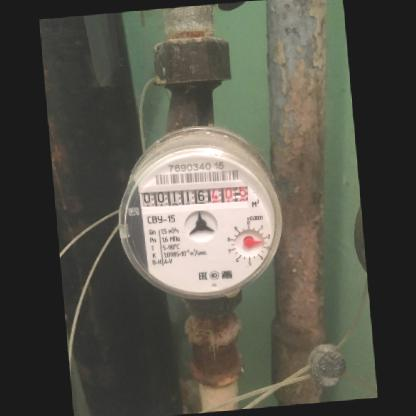digital_screen: (137, 183, 210, 211)
